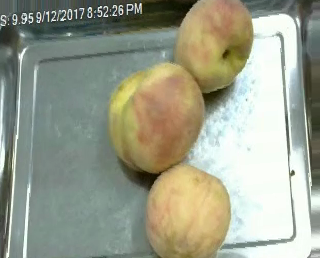Peach: (106, 61, 205, 172), (146, 163, 230, 258), (174, 0, 254, 92)
